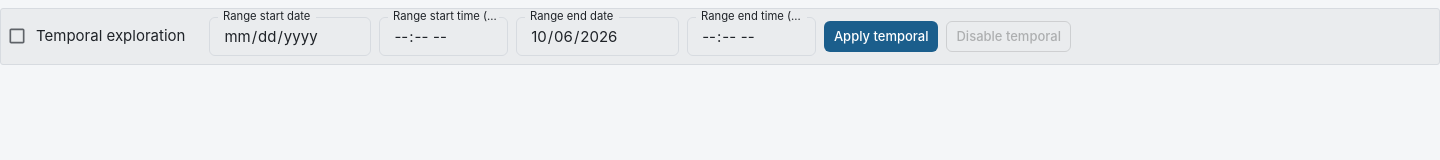
PR 38-8 GraphTemporalControls › T-C06: a missing start date is rejected with localized wording
Click the checkbox labelled "Temporal exploration": {"x": 96, "y": 36} [7,26,185,46]
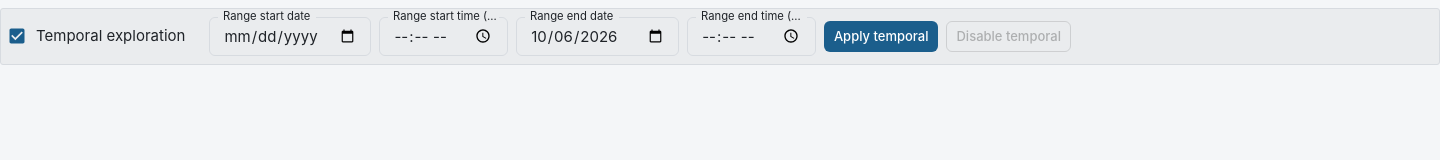
Click the button "Apply temporal": {"x": 881, "y": 36} [824,21,938,52]
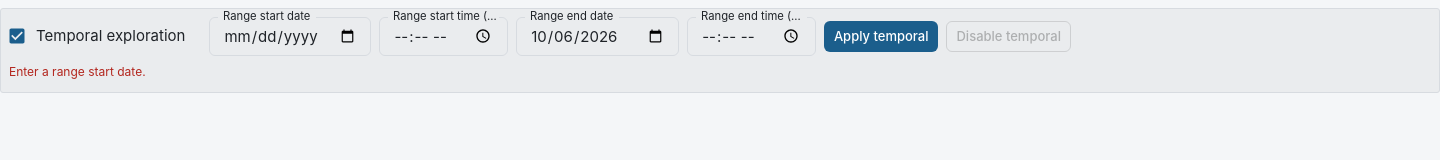
Expected: the message reads "Enter a range start date.", [9,64,146,79]
